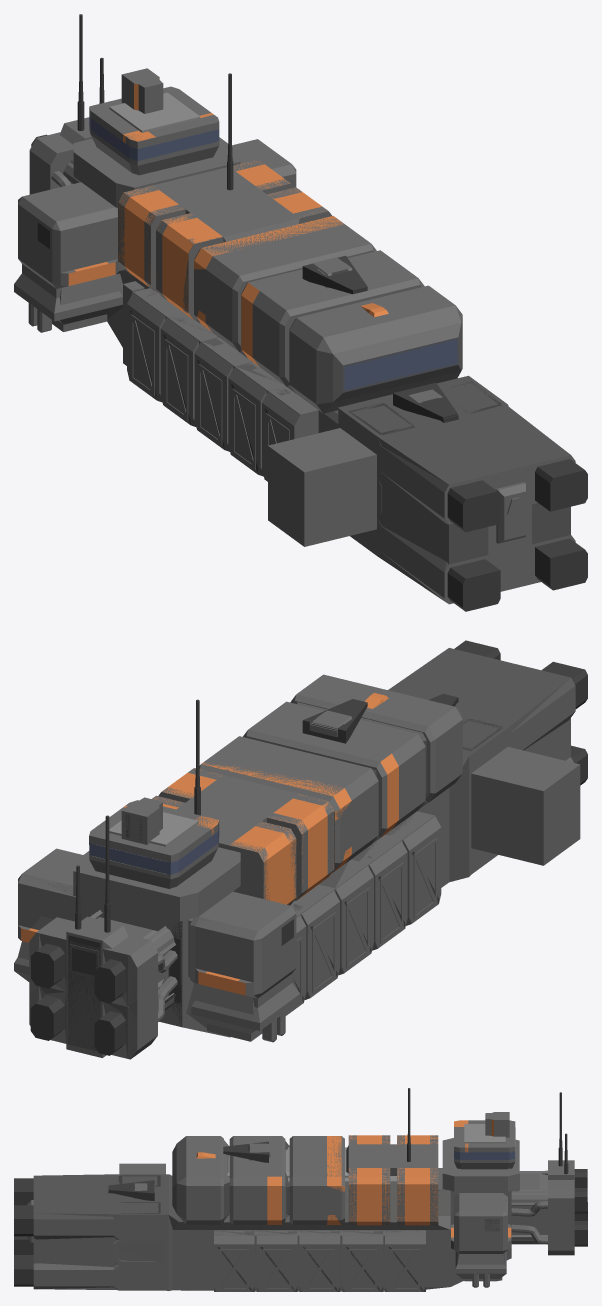
The model's file is ascendancy.glb.
3 views of the same model, one above another, from view 1: azimuth 30°, elevation 25°; view 2: azimuth 150°, elevation 25°; view 3: azimuth 270°, elevation 25° (orthographic). The views are drawn at different scales.
Visible parts, largest first — view 1: ascendancy_LOD_0m, ascendancy_LOD_1200m, outer walls, ascendancy_LOD_300m, ascendancy_LOD_600m, walls; view 2: ascendancy_LOD_0m, ascendancy_LOD_1200m, outer walls, ascendancy_LOD_300m, ascendancy_LOD_600m, walls; view 3: ascendancy_LOD_0m, ascendancy_LOD_1200m, outer walls, ascendancy_LOD_300m, ascendancy_LOD_600m, walls.
Part boxes in pixels (<box>): ascendancy_LOD_0m: <box>14,14,587,611</box>; ascendancy_LOD_1200m: <box>29,68,585,610</box>; outer walls: <box>22,15,584,499</box>; ascendancy_LOD_300m: <box>14,14,525,539</box>; ascendancy_LOD_600m: <box>27,135,587,610</box>; walls: <box>109,92,200,132</box>; ascendancy_LOD_0m: <box>14,654,587,1059</box>; ascendancy_LOD_1200m: <box>14,648,580,1058</box>; outer walls: <box>18,640,584,975</box>; ascendancy_LOD_300m: <box>18,700,554,1057</box>; ascendancy_LOD_600m: <box>23,698,575,1054</box>; walls: <box>92,812,198,874</box>; ascendancy_LOD_0m: <box>14,1088,587,1291</box>; ascendancy_LOD_1200m: <box>33,1112,587,1291</box>; outer walls: <box>14,1089,587,1221</box>; ascendancy_LOD_300m: <box>113,1088,587,1291</box>; ascendancy_LOD_600m: <box>108,1136,554,1291</box>; walls: <box>224,1124,515,1222</box>.
Size of the model in its own units: 16.12 by 18.19 by 48.45.
